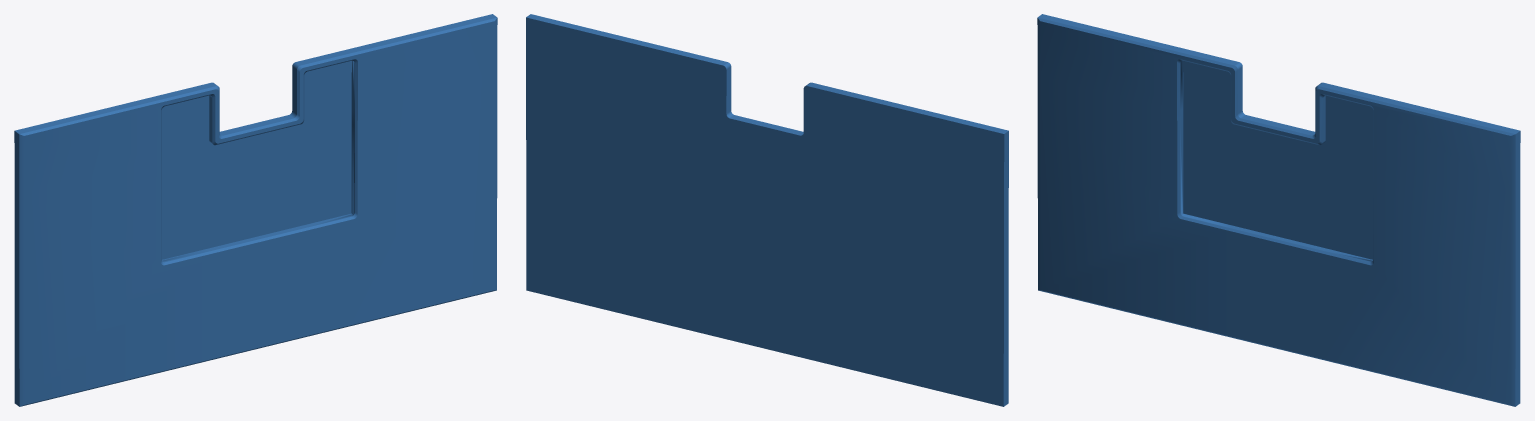
The model's file is Bigsides_box (1).fbx.
3 renders of one model, left to right at view 1: azimuth 30°, elevation 25°; view 2: azimuth 150°, elevation 25°; view 3: azimuth 330°, elevation 25°, orthographic.
Visible parts, largest first — view 1: Bigsides_box; view 2: Bigsides_box; view 3: Bigsides_box.
Boxes of the visible parts, <box> form: Bigsides_box: <box>14,14,497,406</box>; Bigsides_box: <box>526,14,1008,406</box>; Bigsides_box: <box>1037,14,1520,406</box>.
Size of the model in its own units: 1413 by 771 by 30.22.
